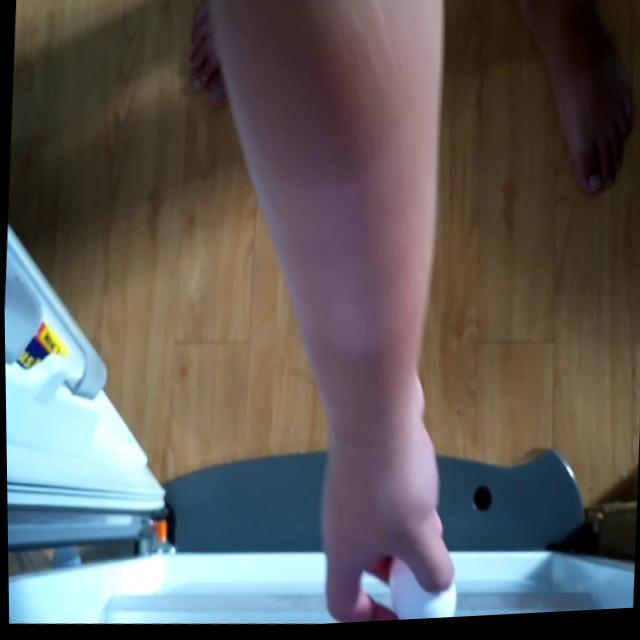egg: (385, 554, 459, 625)
